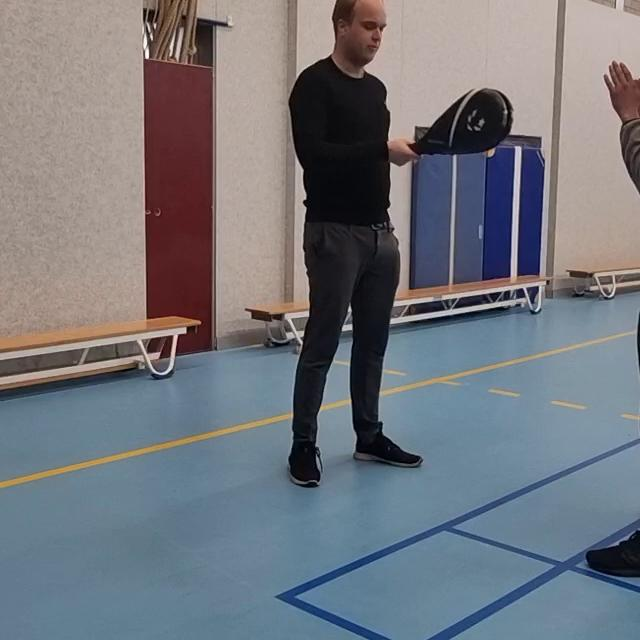paddle: (410, 85, 523, 156)
